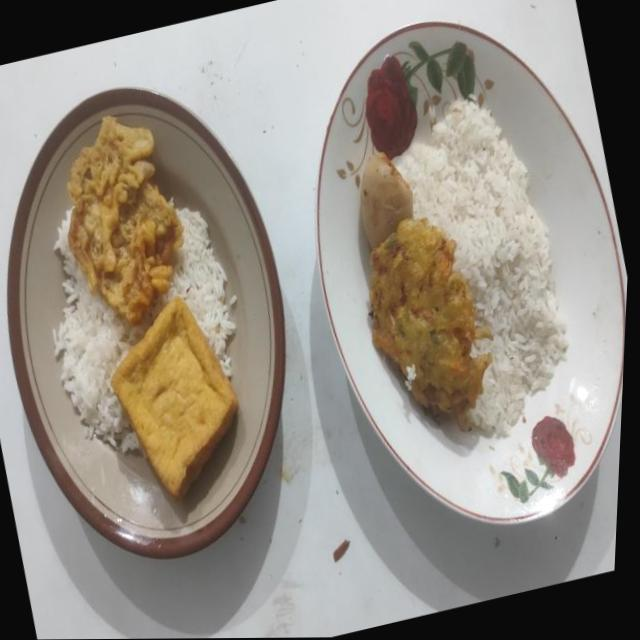nasi_putih: (400, 100, 568, 436), (52, 208, 236, 452)
tahu_goreng: (111, 296, 237, 496)
